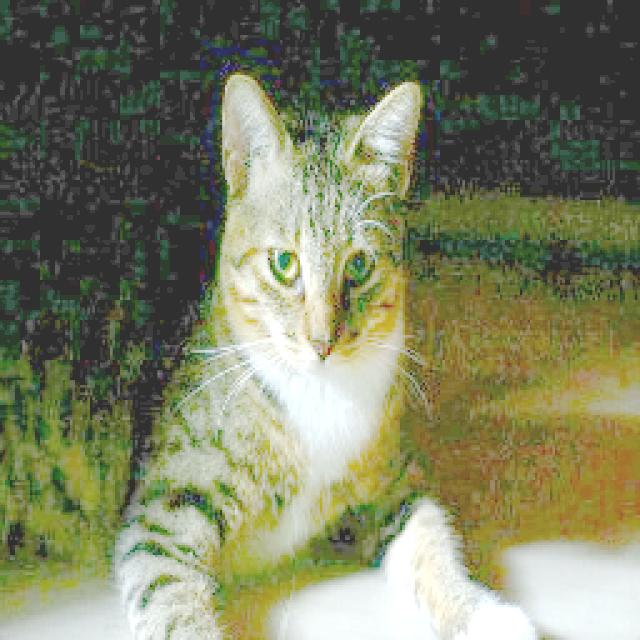cat: (4, 69, 561, 640)
